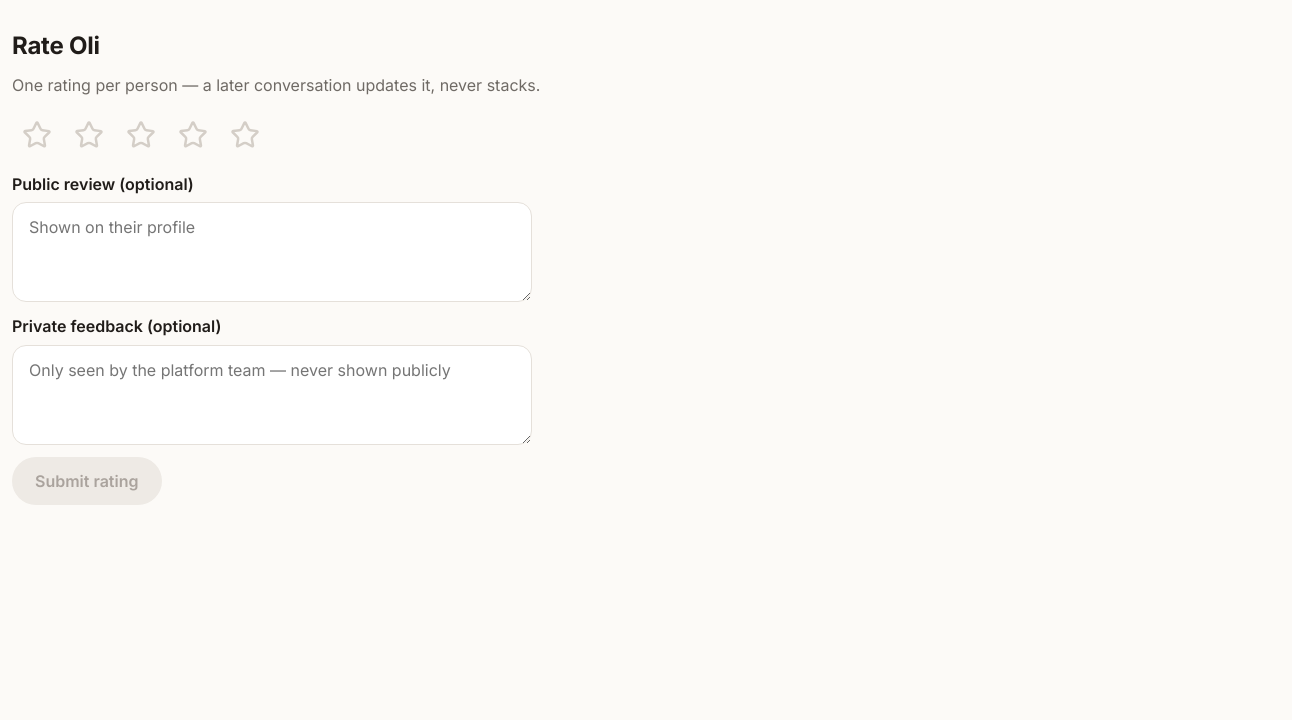
Test: RatingPanel form behaviour › 10. typed errors are shown in friendly words
Click the radio button named "5 stars". click: coordinates (245, 135)
box: [220,110,270,160]
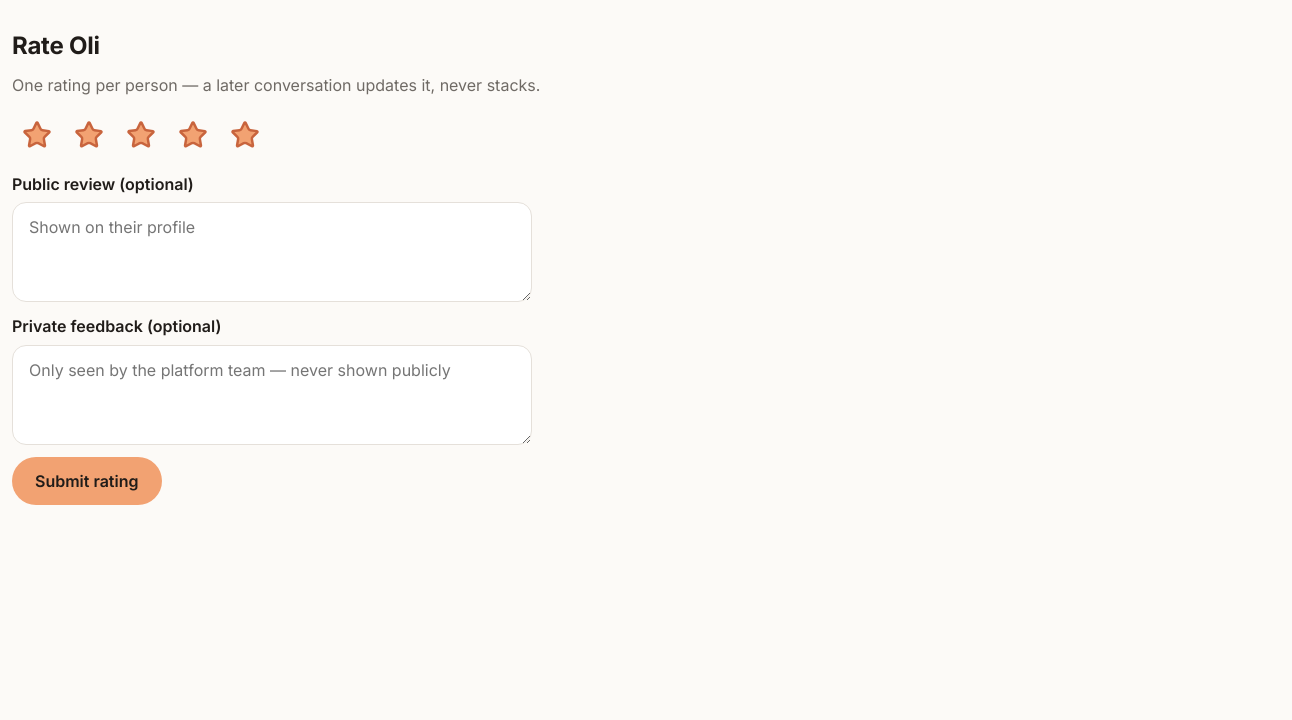
Click the button "Submit rating". click: coordinates (87, 481)
box: [12,457,162,505]
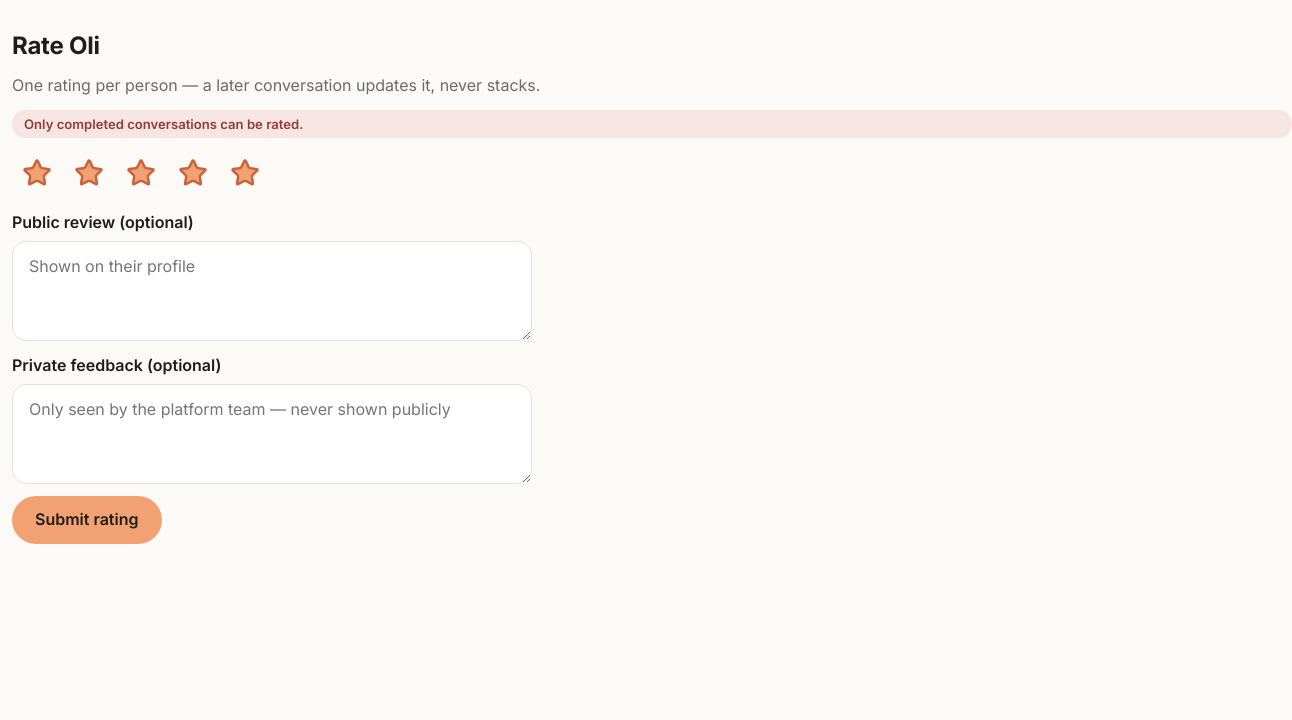
Expected: the message shows "Only completed conversations", [24,116,303,132]
